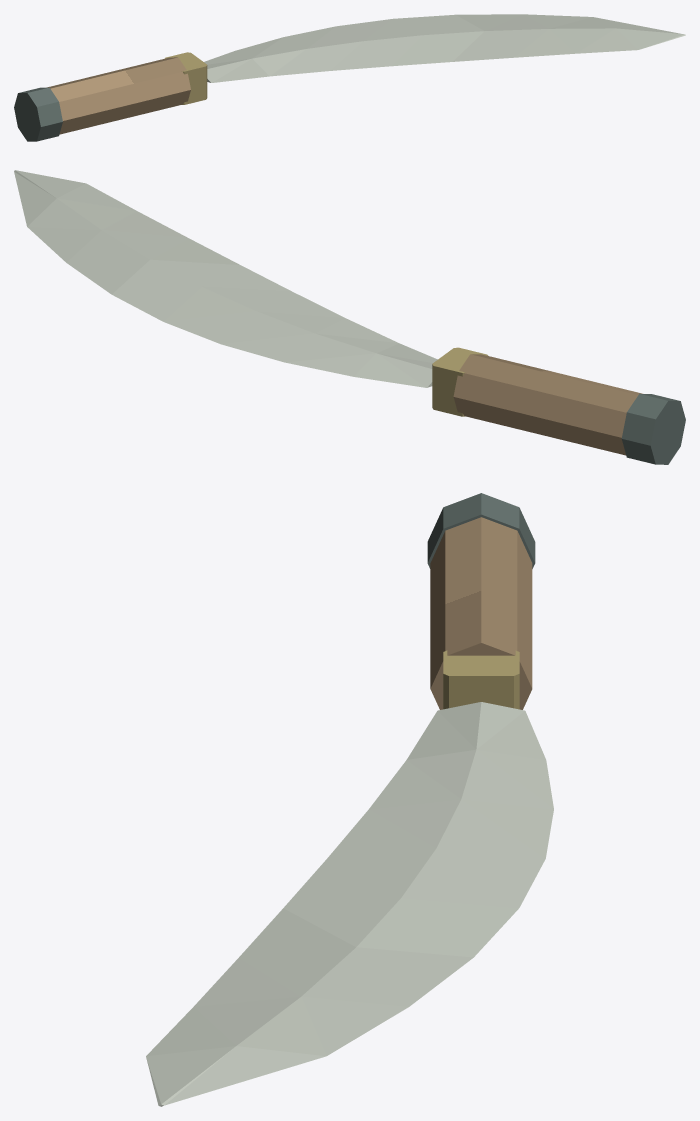
Rendered from weapon-kukri.glb.
3 views of the same model, one above another, from view 1: azimuth 30°, elevation 25°; view 2: azimuth 150°, elevation 25°; view 3: azimuth 270°, elevation 25° (orthographic). The views are drawn at different scales.
Visible parts, largest first — view 1: weapon-kukri/faceted-distinct-blade, weapon-kukri/eight-sided-handle, weapon-kukri/handle-end-pommel, weapon-kukri/small-handle-ferrule; view 2: weapon-kukri/faceted-distinct-blade, weapon-kukri/eight-sided-handle, weapon-kukri/handle-end-pommel, weapon-kukri/small-handle-ferrule; view 3: weapon-kukri/faceted-distinct-blade, weapon-kukri/eight-sided-handle, weapon-kukri/small-handle-ferrule, weapon-kukri/handle-end-pommel.
Boxes of the visible parts, box(x1,y1,x2,y2) form: weapon-kukri/faceted-distinct-blade: box(204, 14, 685, 82); weapon-kukri/eight-sided-handle: box(47, 57, 190, 134); weapon-kukri/handle-end-pommel: box(14, 87, 62, 141); weapon-kukri/small-handle-ferrule: box(164, 52, 207, 104); weapon-kukri/faceted-distinct-blade: box(14, 170, 437, 387); weapon-kukri/eight-sided-handle: box(453, 354, 642, 455); weapon-kukri/handle-end-pommel: box(621, 393, 685, 464); weapon-kukri/small-handle-ferrule: box(432, 347, 488, 416); weapon-kukri/faceted-distinct-blade: box(146, 702, 553, 1106); weapon-kukri/eight-sided-handle: box(430, 517, 532, 709); weapon-kukri/small-handle-ferrule: box(443, 650, 519, 709); weapon-kukri/handle-end-pommel: box(427, 493, 535, 568).
Bounding box in the file's own units: 0.471 × 0.038 × 0.1441.
4 materials, 4 textured.
